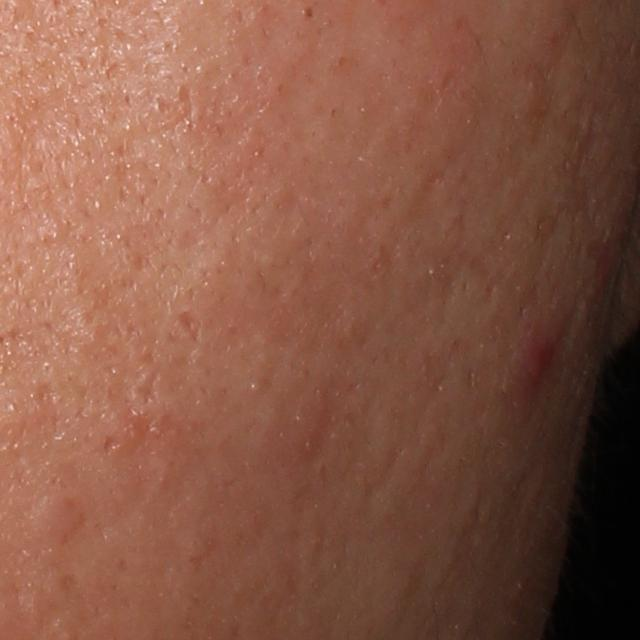atrophic_scar: (174, 81, 198, 131), (133, 366, 163, 404), (174, 310, 198, 343), (101, 433, 124, 458)
papule: (21, 489, 88, 544), (518, 331, 556, 381)
